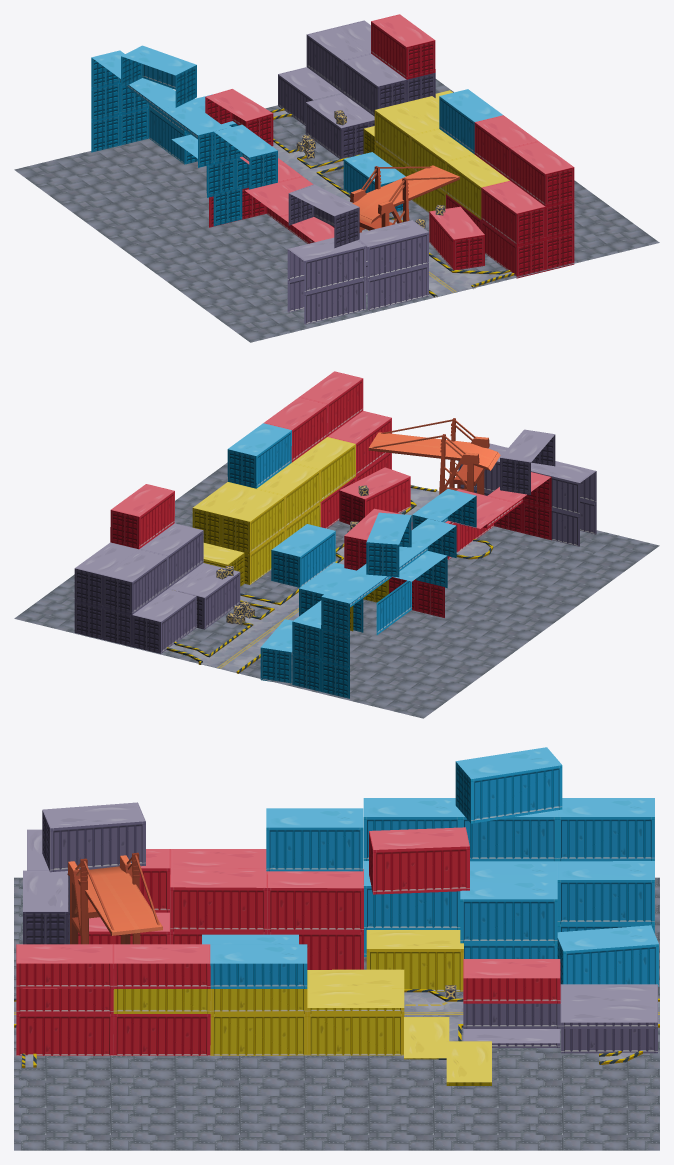
File: scene_city_03.FBX
3 renders of one model, top to bottom at view 1: azimuth 30°, elevation 25°; view 2: azimuth 150°, elevation 25°; view 3: azimuth 270°, elevation 25°, orthographic. The views are drawn at different scales.
Parts seen in each view (by area): view 1: scene_city_03; view 2: scene_city_03; view 3: scene_city_03.
Boxes of the visible parts, x1,y1,x2,y2 form: scene_city_03: [14, 14, 659, 342]; scene_city_03: [14, 371, 659, 718]; scene_city_03: [14, 747, 659, 1150].
Size of the model in its own units: 10000 by 3017 by 10000.
